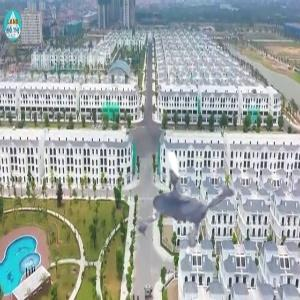drone: (101, 104, 265, 268)
